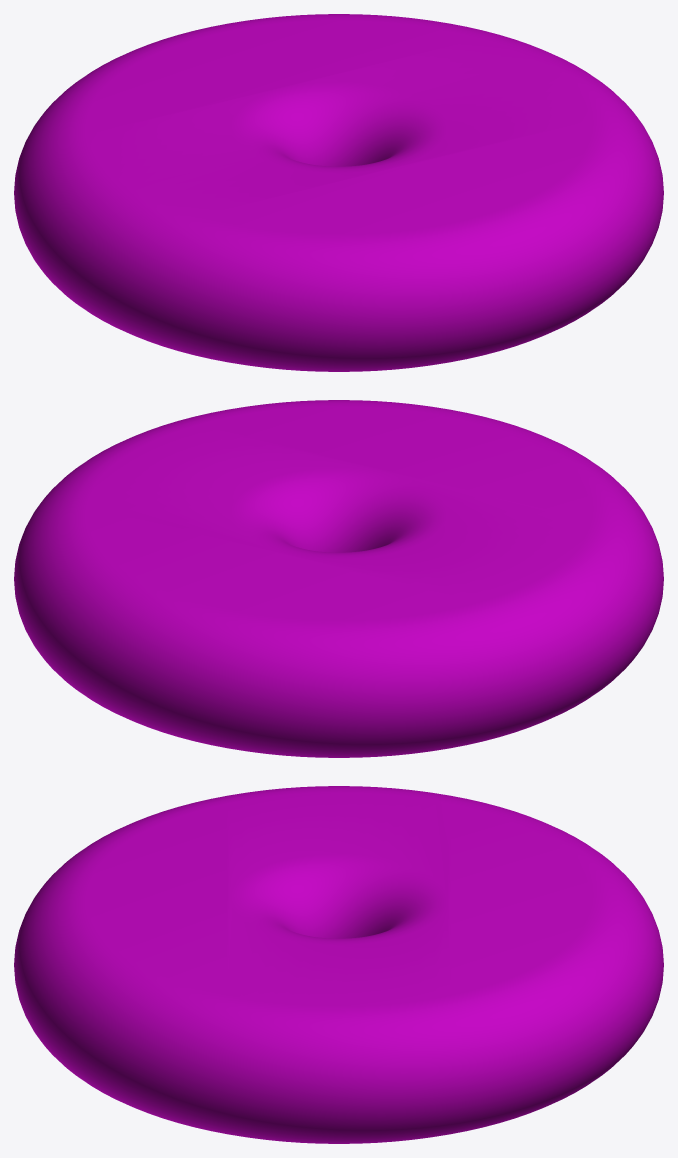
File: Disk.fbx
3 renders of one model, top to bottom at view 1: azimuth 30°, elevation 25°; view 2: azimuth 150°, elevation 25°; view 3: azimuth 270°, elevation 25°, orthographic.
Parts seen in each view (by area): view 1: Group1; view 2: Group1; view 3: Group1.
Boxes of the visible parts, x1=… form: Group1: x1=14, y1=14, x2=663, y2=371; Group1: x1=14, y1=400, x2=663, y2=757; Group1: x1=14, y1=786, x2=663, y2=1143.
Size of the model in its own units: 3.38 by 0.75 by 3.38.
